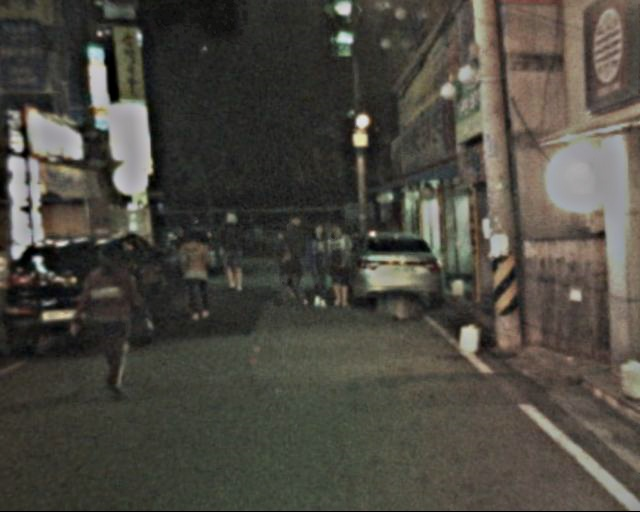person: (84, 247, 143, 391), (175, 229, 216, 314), (278, 217, 316, 295), (323, 223, 356, 311), (214, 212, 249, 292), (305, 221, 335, 311), (270, 234, 299, 303)
